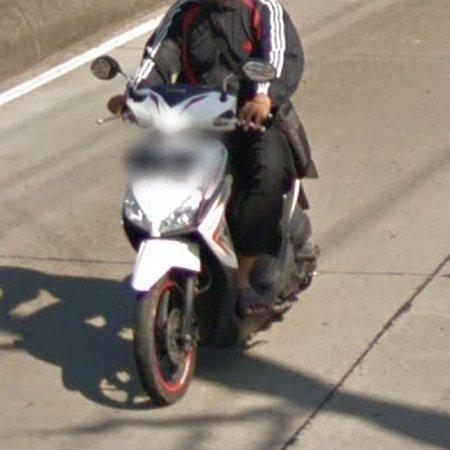motorcycles: (123, 78, 317, 404)
